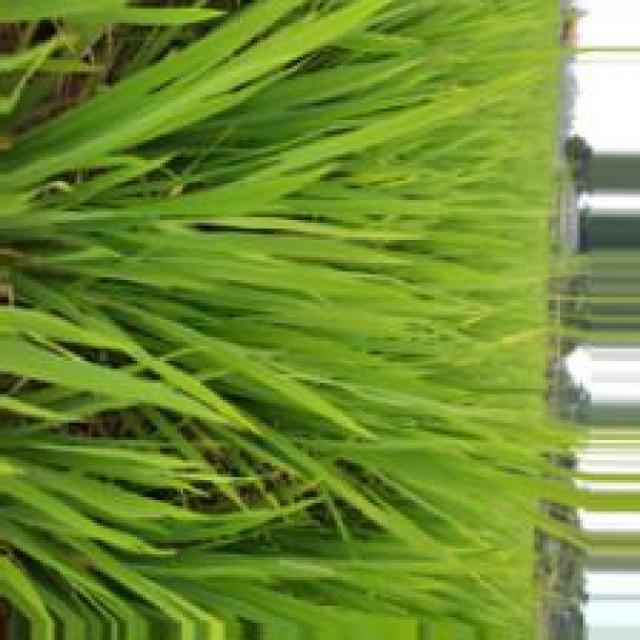HealthyLeaf: (283, 257, 548, 398)
